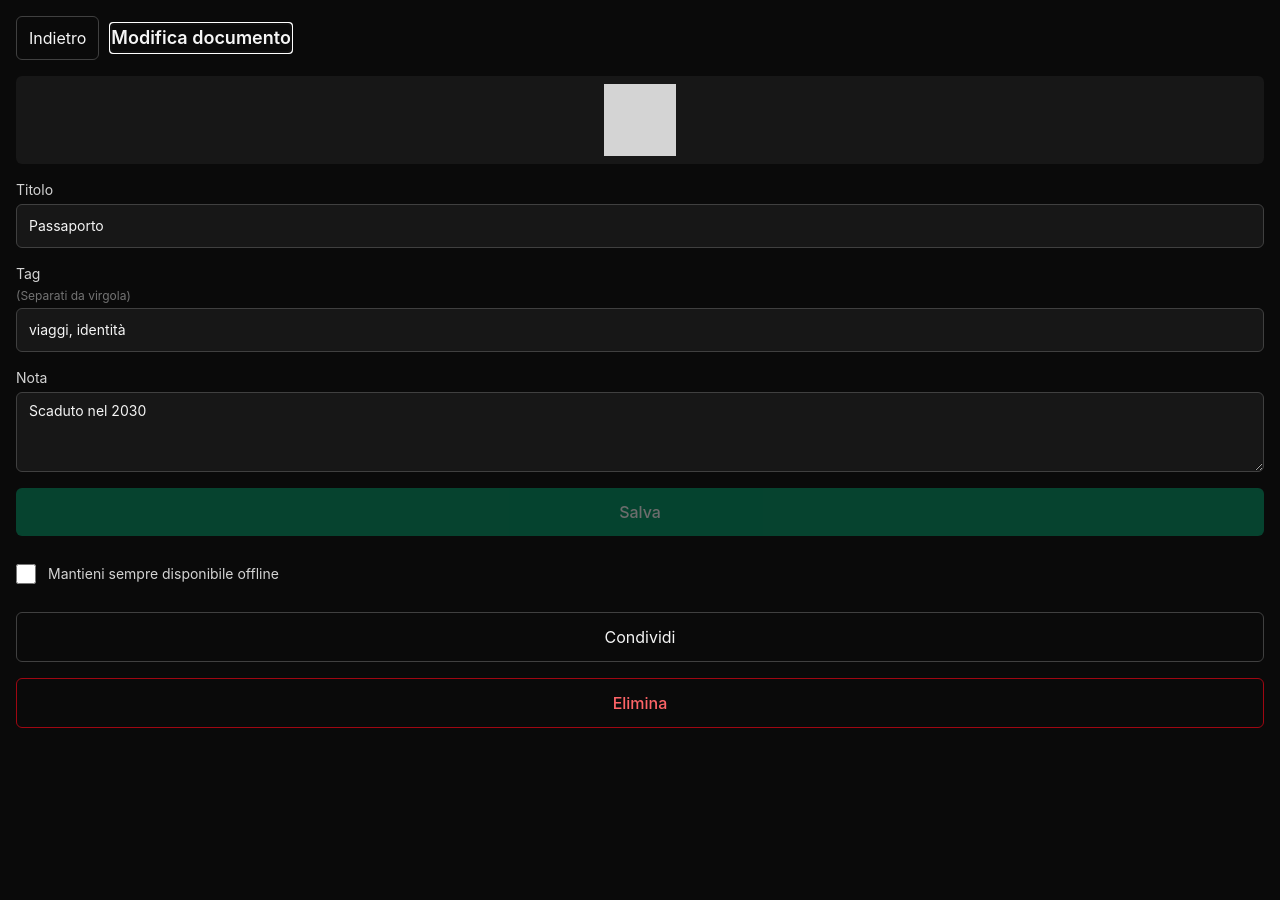
Test: Document › keeps Save disabled with nothing to save, enables it on edit, confirms after saving
Expected: the button "Salva" is disabled, [16,488,1264,536]
Replace the text in the field showing "Passaporto" with "Nuovo titolo" at {"x": 640, "y": 226}, box [16,204,1264,248]
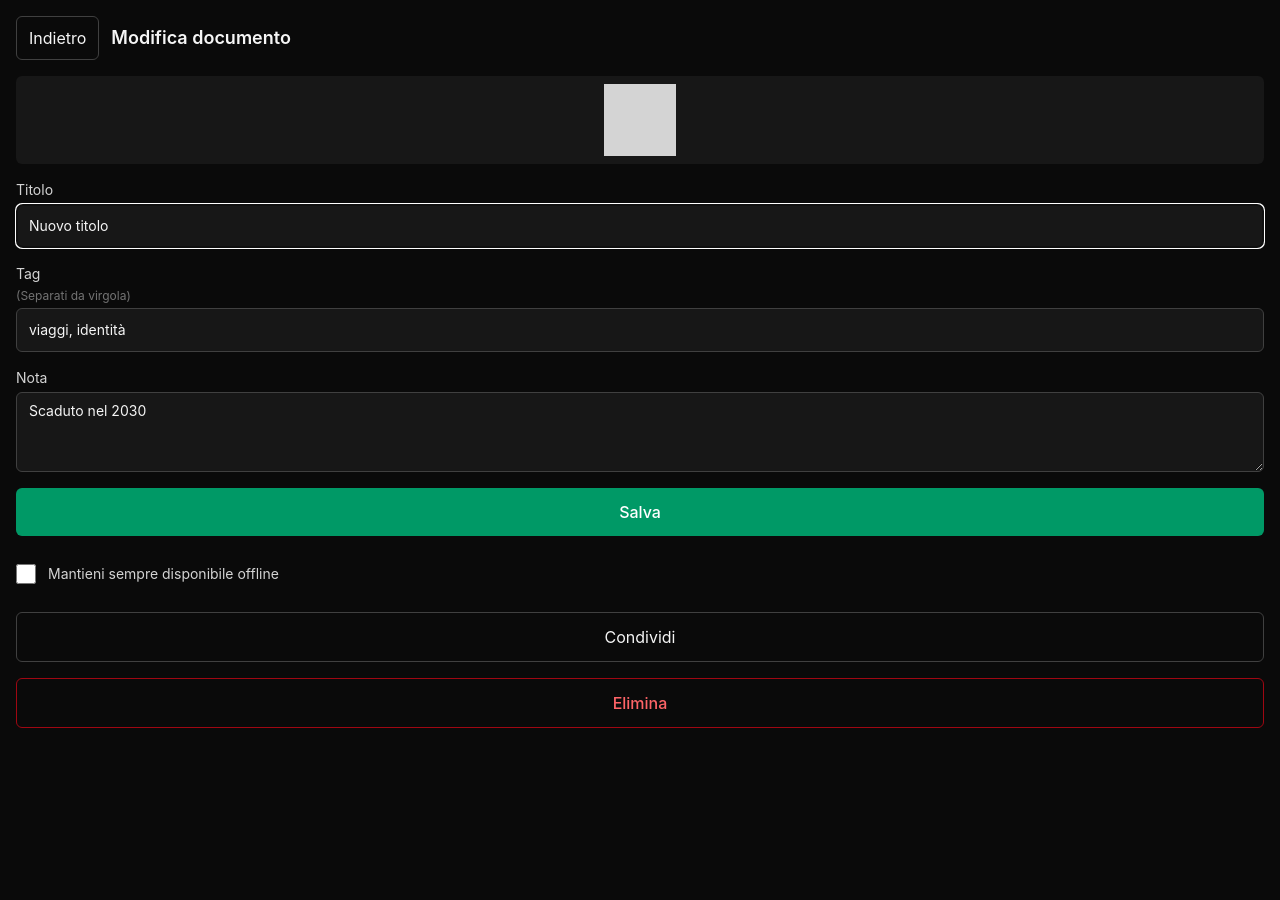
Now the button "Salva" is enabled
Click the button "Salva".
click(640, 512)  # box [16,488,1264,536]
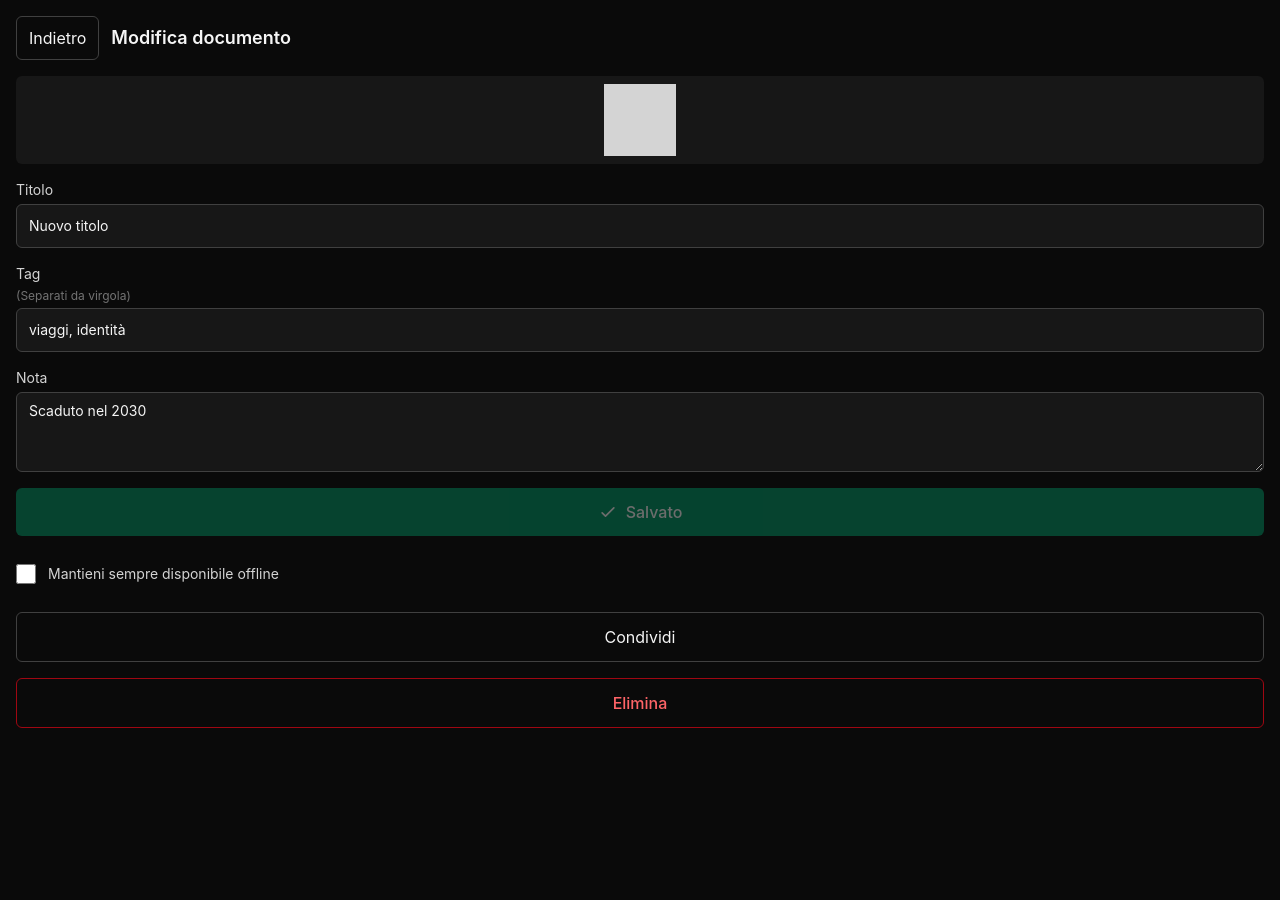
Now the button "Salvato" is disabled, box [16,488,1264,536]
Now the button "Salvato" is shown, box [16,488,1264,536]
